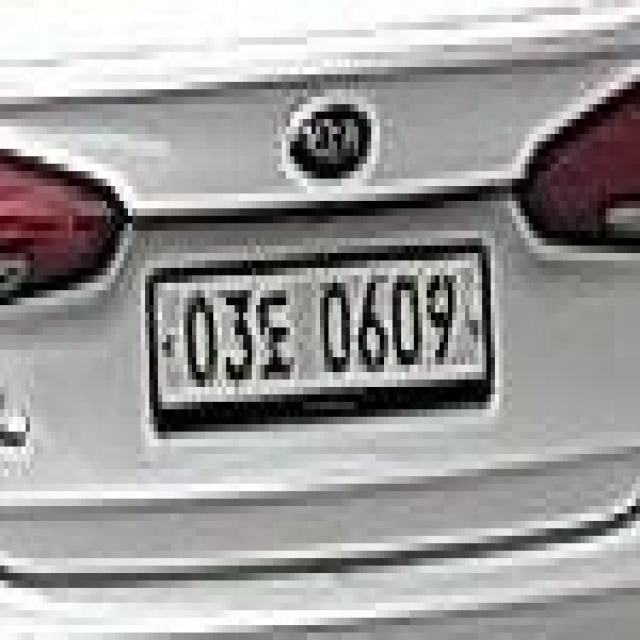illegal_plate: (142, 242, 500, 431)
